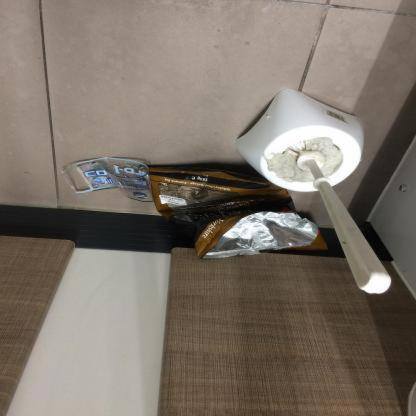Paper: (297, 138, 343, 177), (263, 151, 315, 182)
Plastic bag - wrapper: (149, 167, 328, 260), (60, 157, 153, 202)
